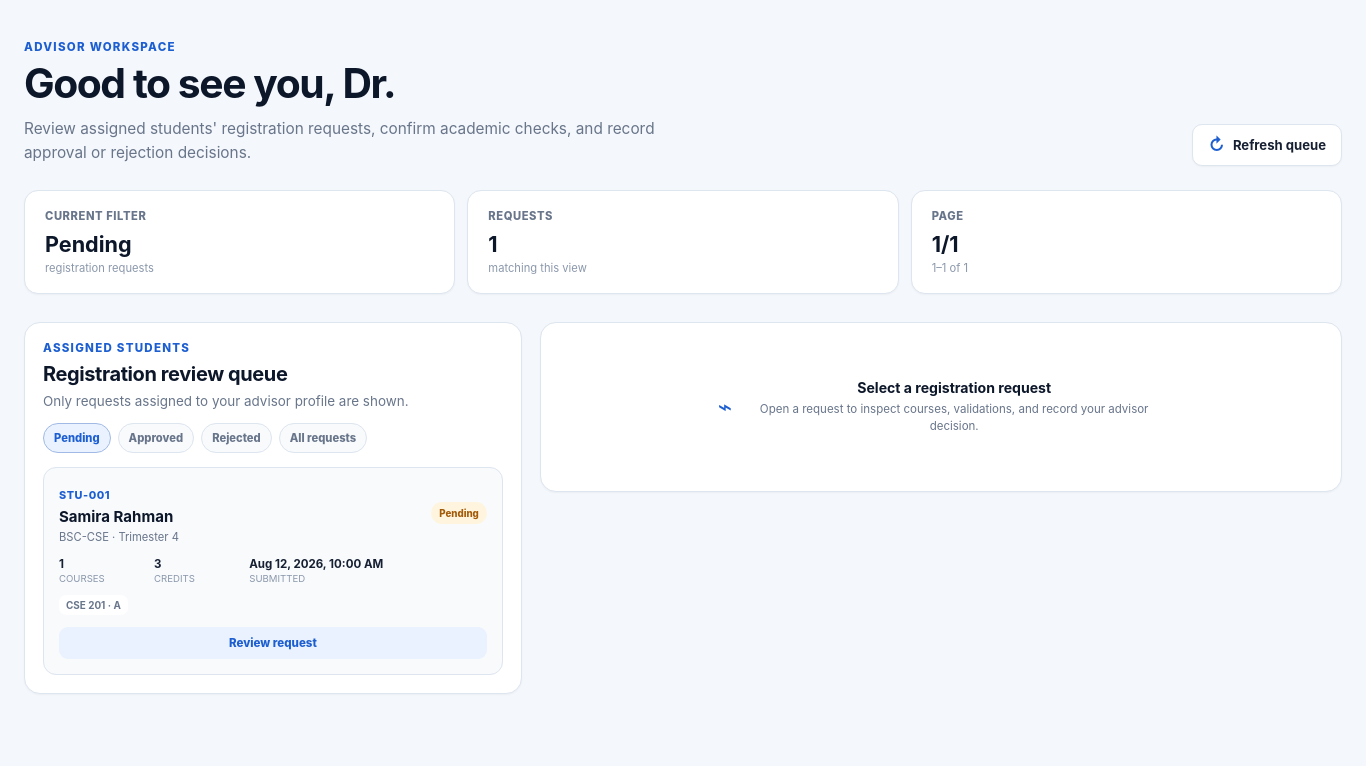
Test case: AdvisorDashboardPage › requires a reason before rejecting a request
Step 1. Click the button "Review request" → (273, 643), box left=59, top=627, right=487, bottom=659
(page scrolled)
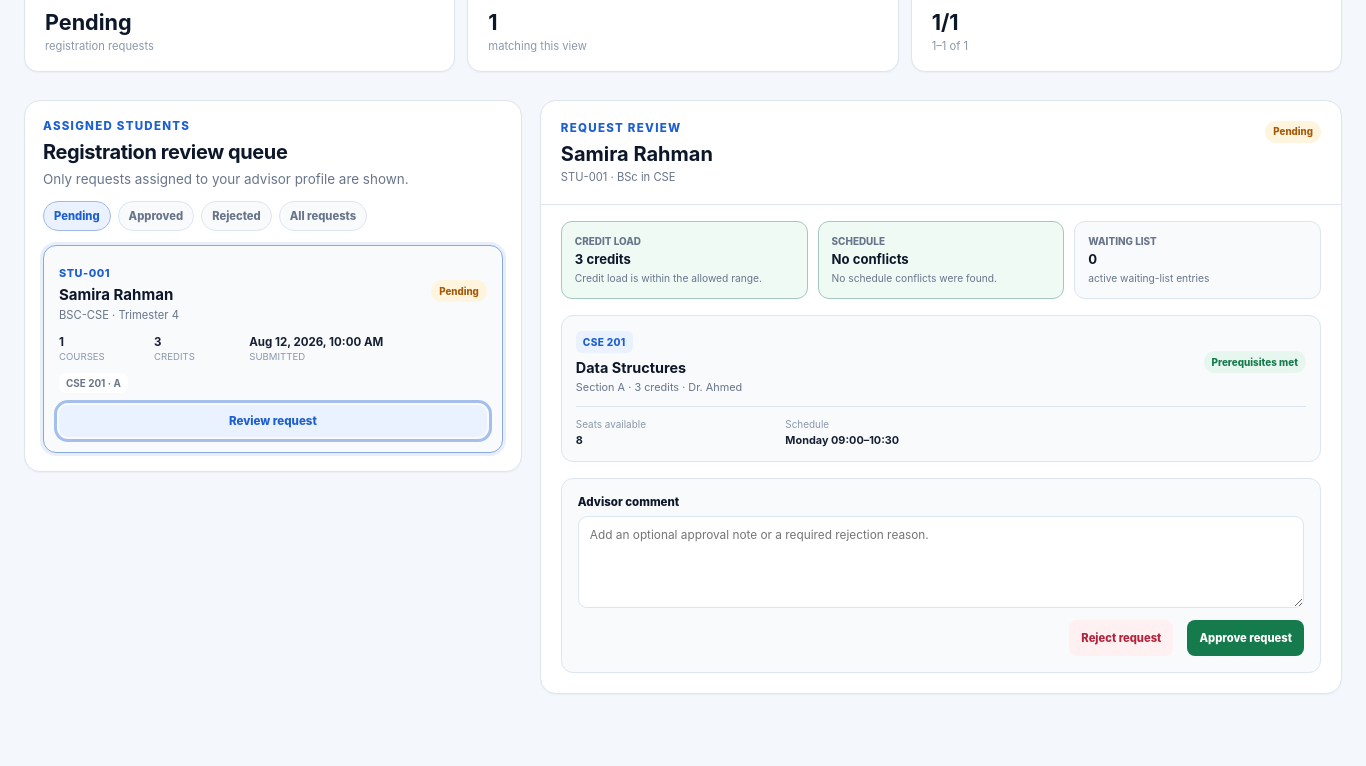
Now the button "Reject request" is shown
Step 2. Click the button "Reject request" → (1121, 638), box left=1069, top=620, right=1173, bottom=656
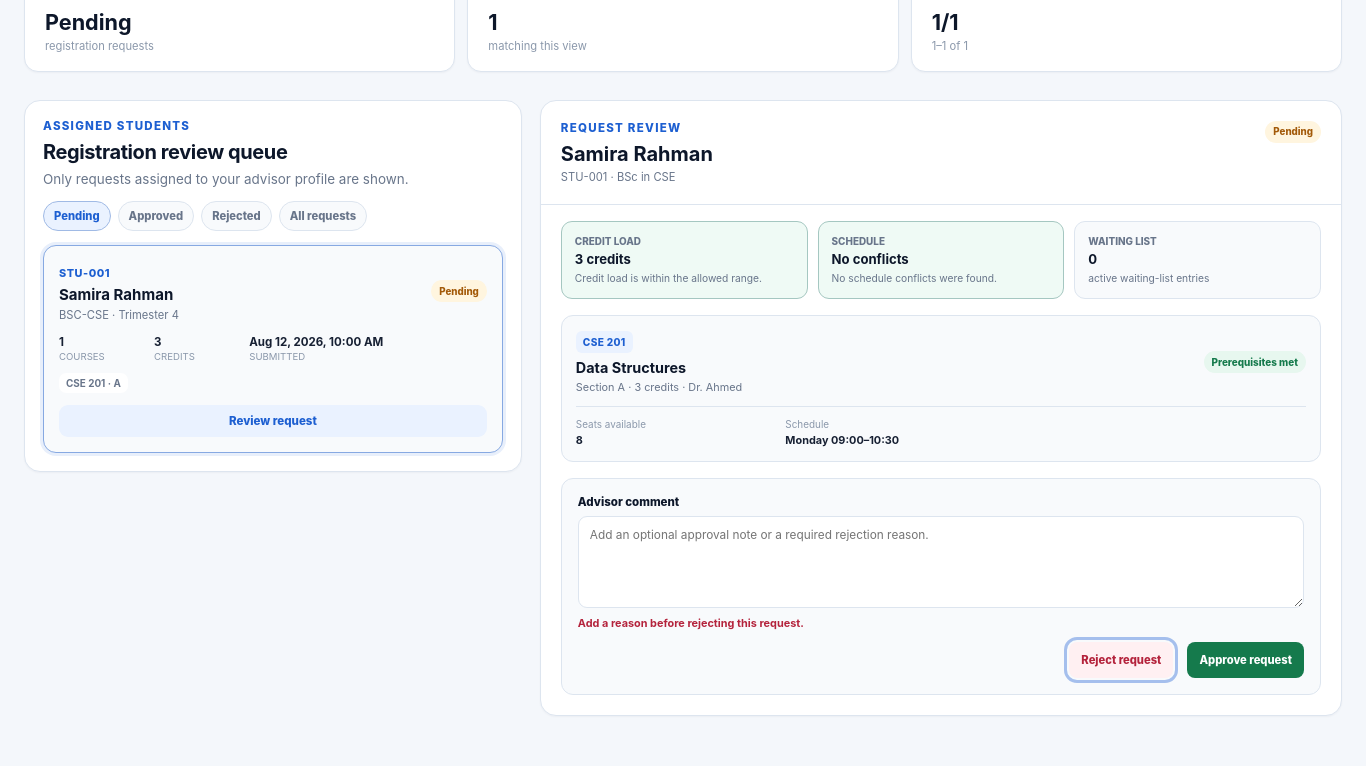
Now the text "Add a reason before rejecting this request." is shown, box left=578, top=616, right=804, bottom=630
